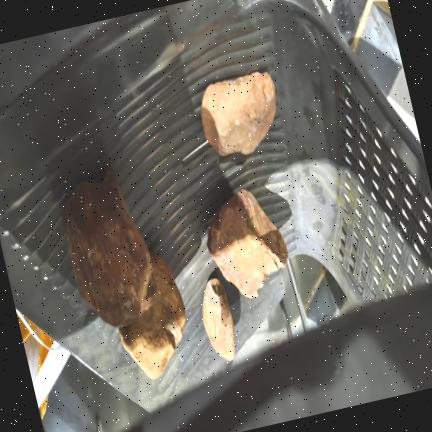Rocks: (61, 170, 157, 325), (206, 189, 287, 297), (119, 252, 184, 378), (200, 71, 274, 155), (202, 277, 234, 360)
